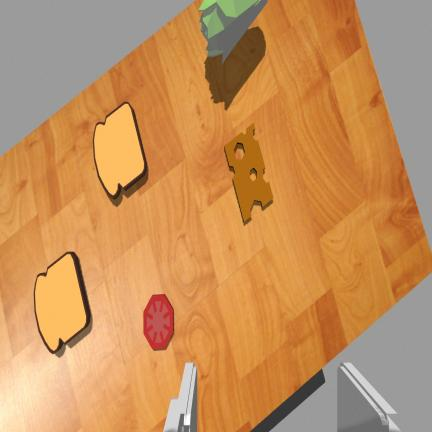cheese: (224, 124, 272, 221)
lettuce: (199, 0, 266, 62)
sliced_bread: (35, 252, 89, 352), (94, 103, 146, 197)
sliced_tomato: (144, 295, 173, 349)
